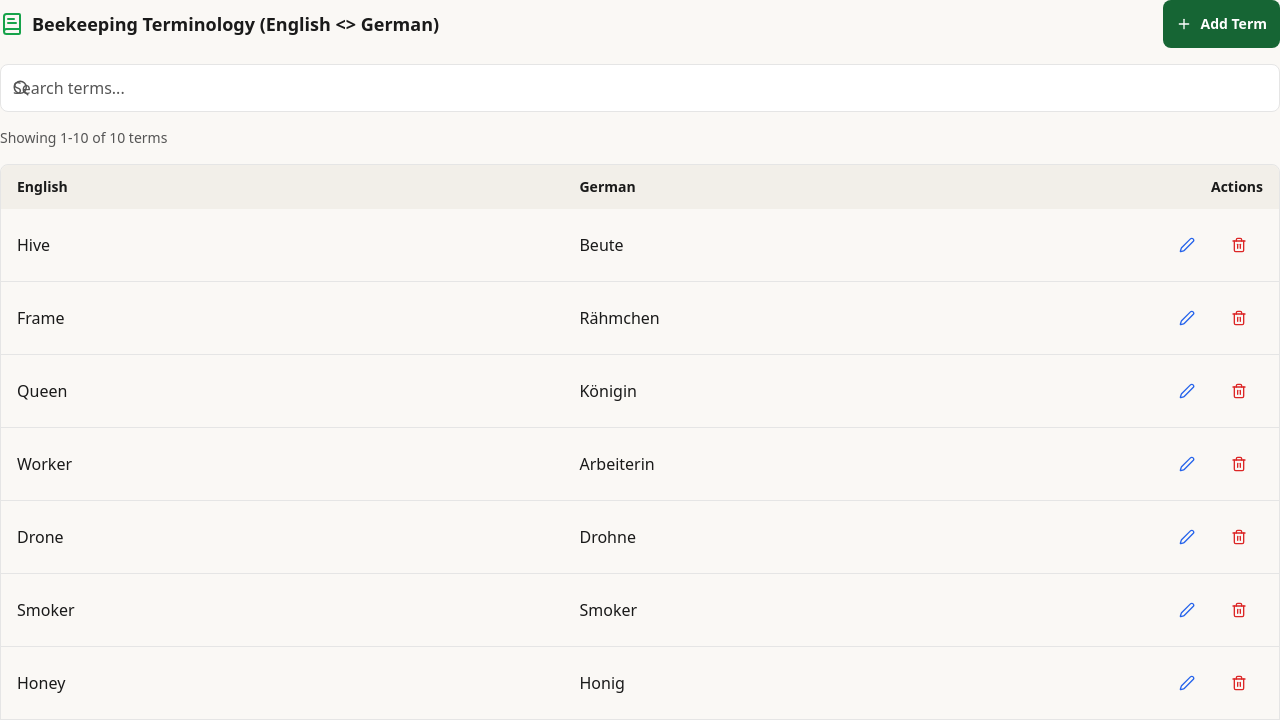
Test: TerminologyTable › Edit Term Functionality › should cancel editing when cancel button is clicked
expect the text "Hive" is shown: met, box [1,209,564,282]
Click the button titled "Edit" in the row of "Hive" at coordinates (1187, 245), box [1163,221,1211,269]
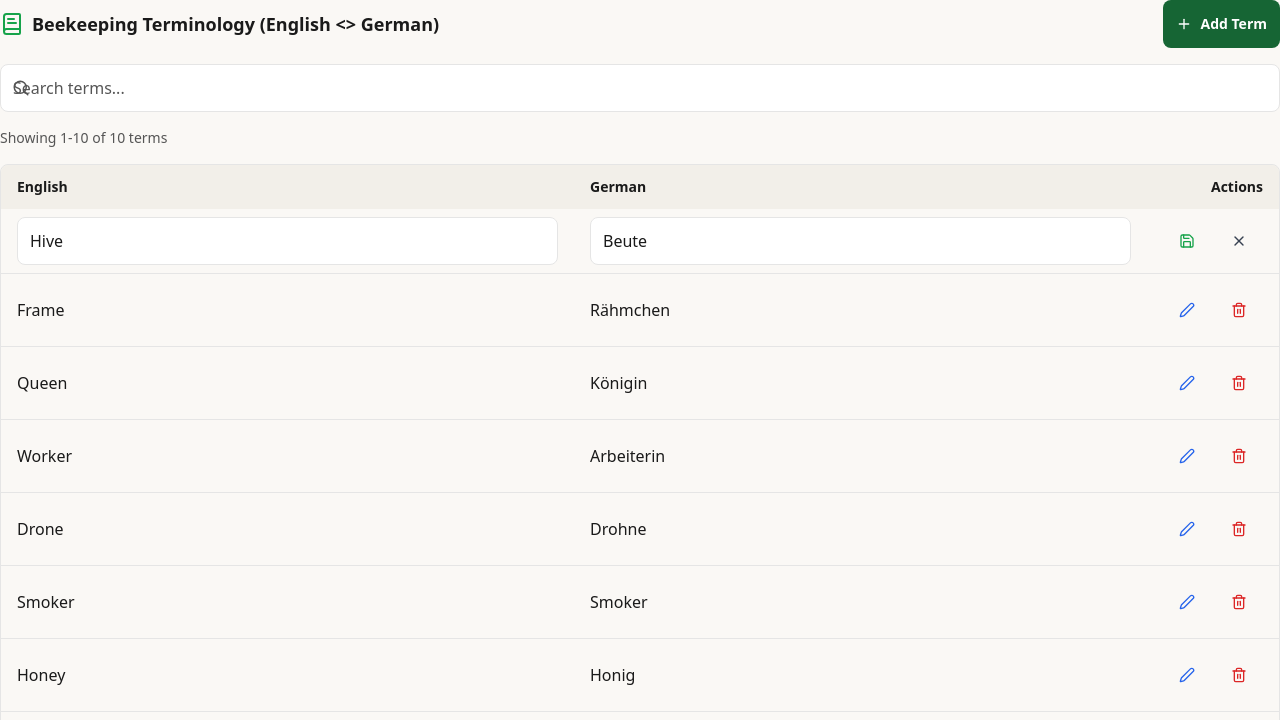
expect the 1st field showing "Hive" is shown: met, box [17,217,558,265]
Click the button titled "Cancel" at coordinates (1239, 241), box [1215,217,1263,265]
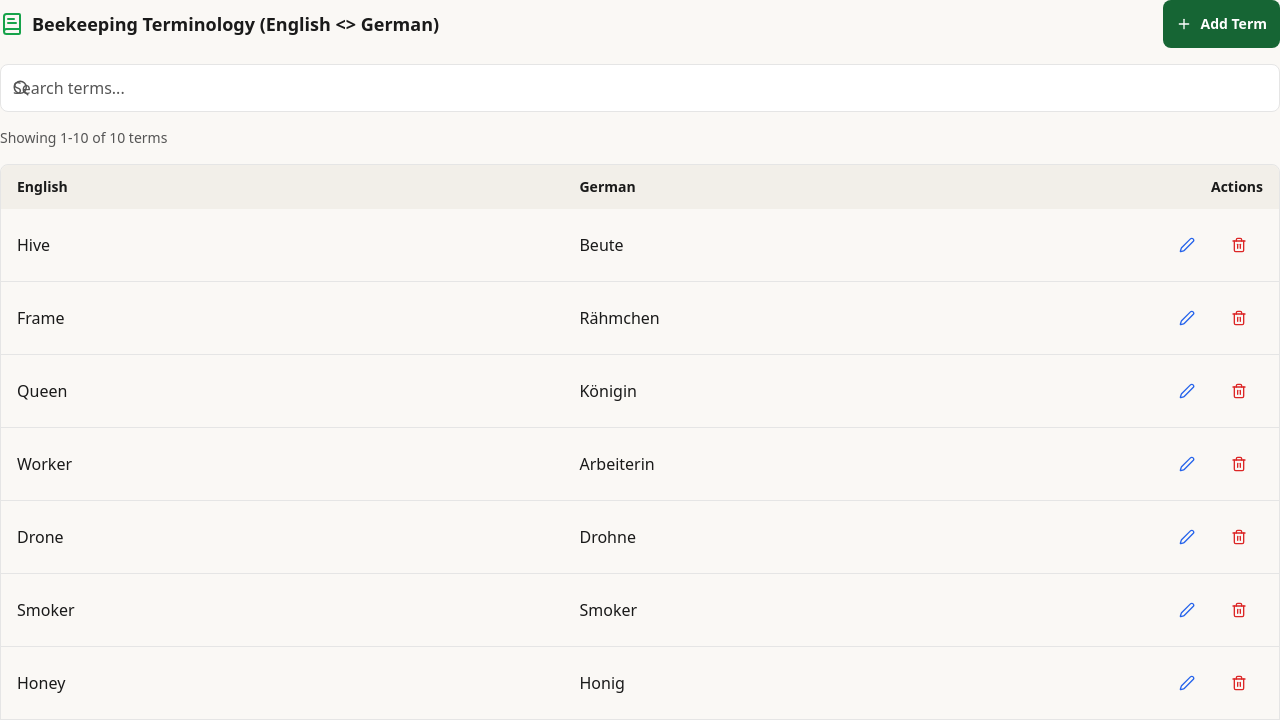
expect the text "Hive" is shown: met, box [1,209,564,282]
